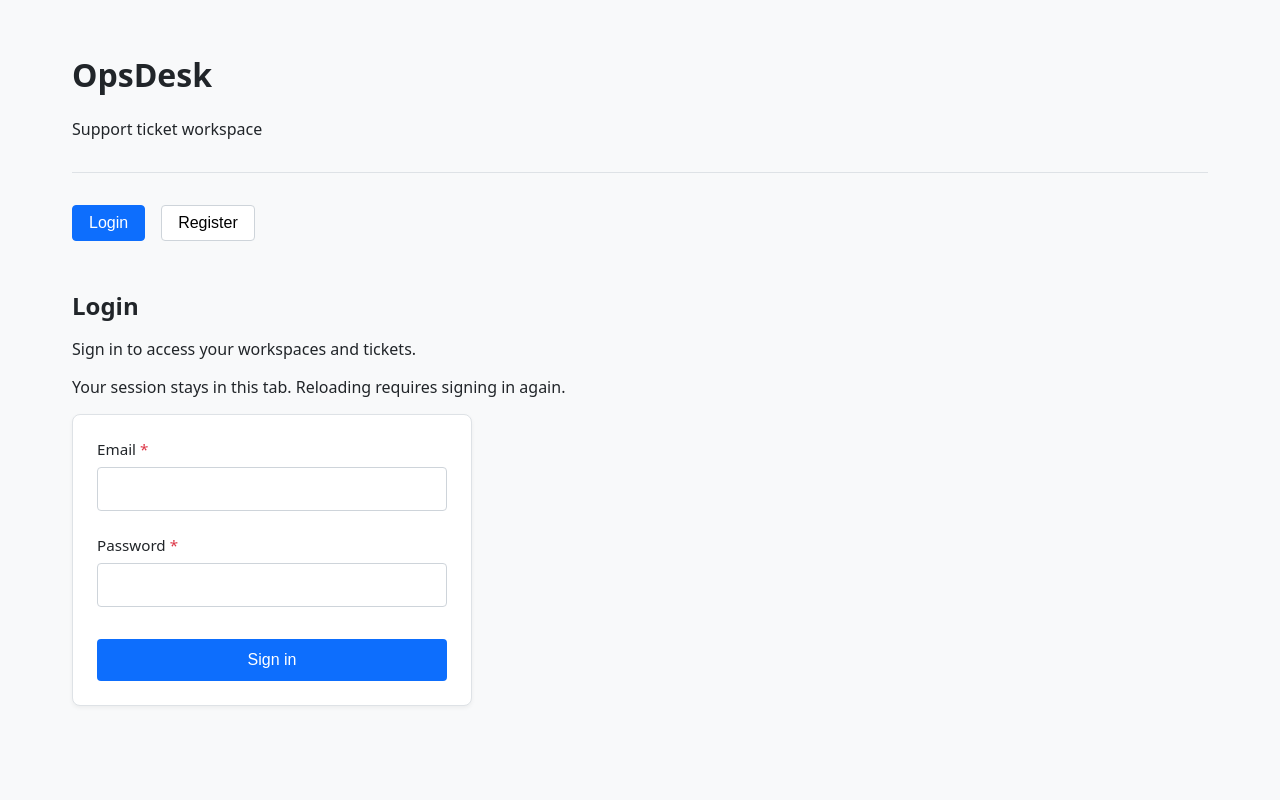
handles successful session check: updates user info and keeps session active
Step 1. Click the button "Login" → click(109, 223), box [72,205,145,241]
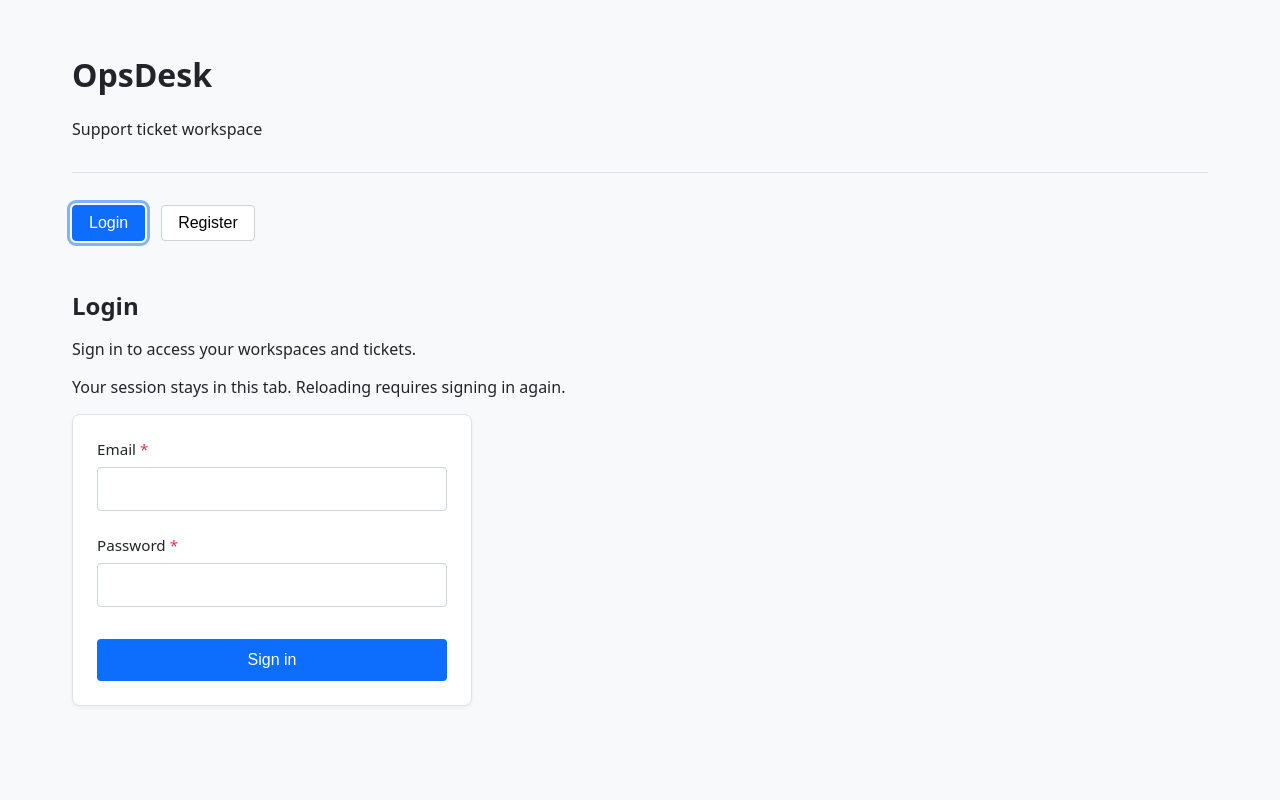
Step 2. Type "operator@example.com" into the field labelled "Email *" → (272, 489), box [97,467,447,511]
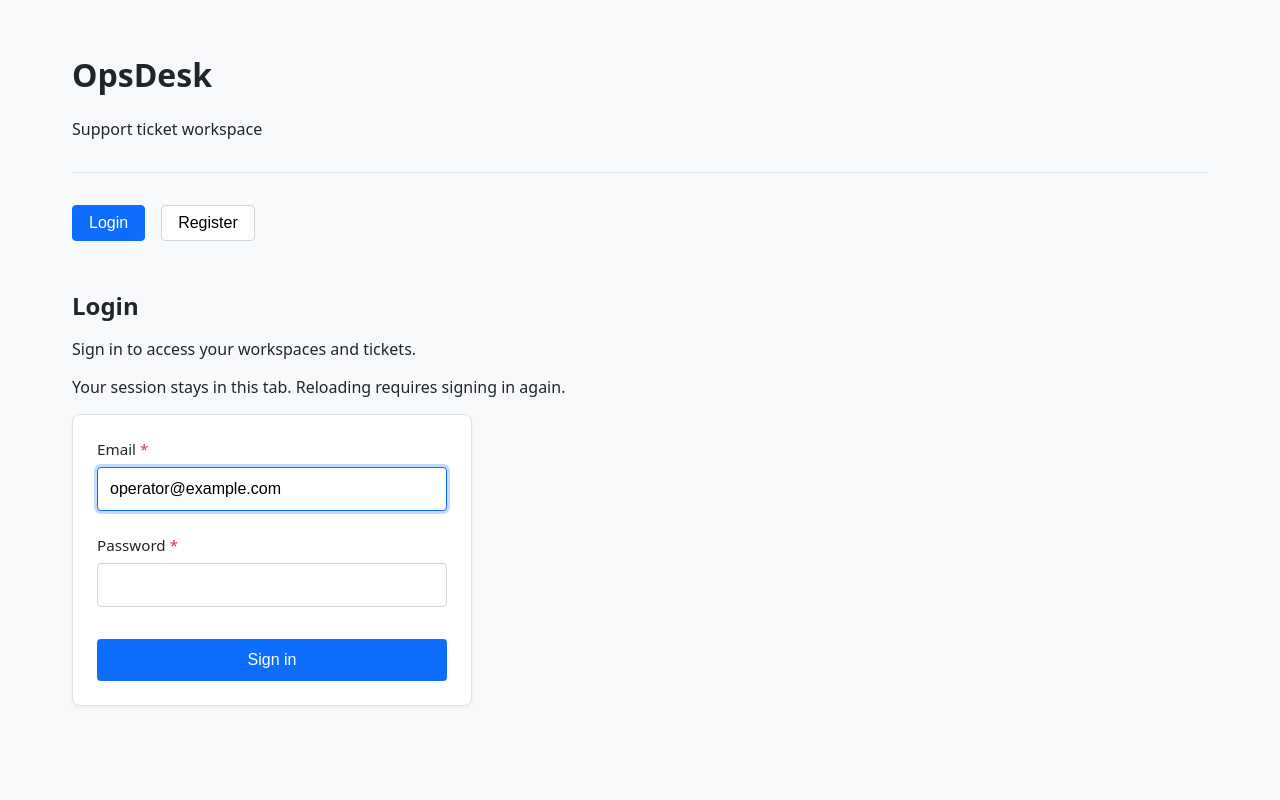
Step 3. Type "validPassword123" into the password field labelled "Password *" → (272, 585), box [97,563,447,607]
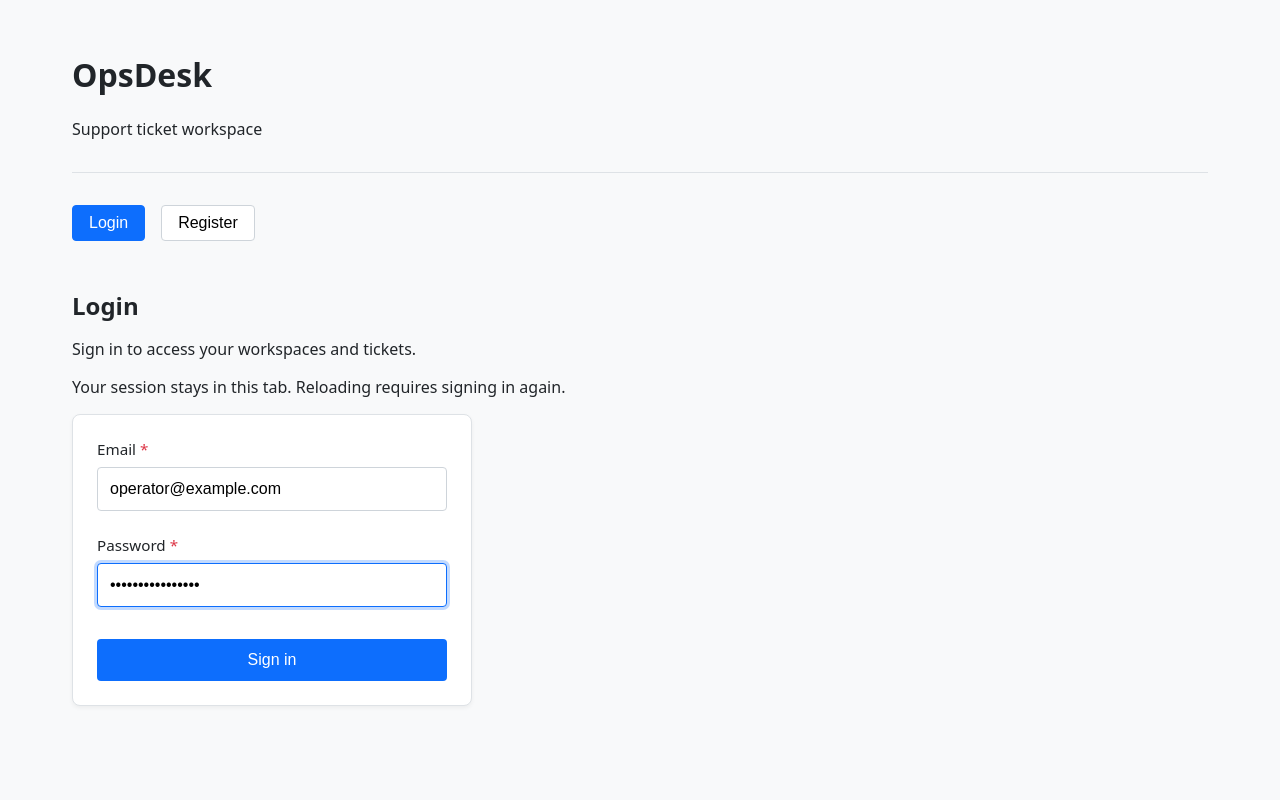
Step 4. Click the button "Sign in" → click(272, 660), box [97,639,447,681]
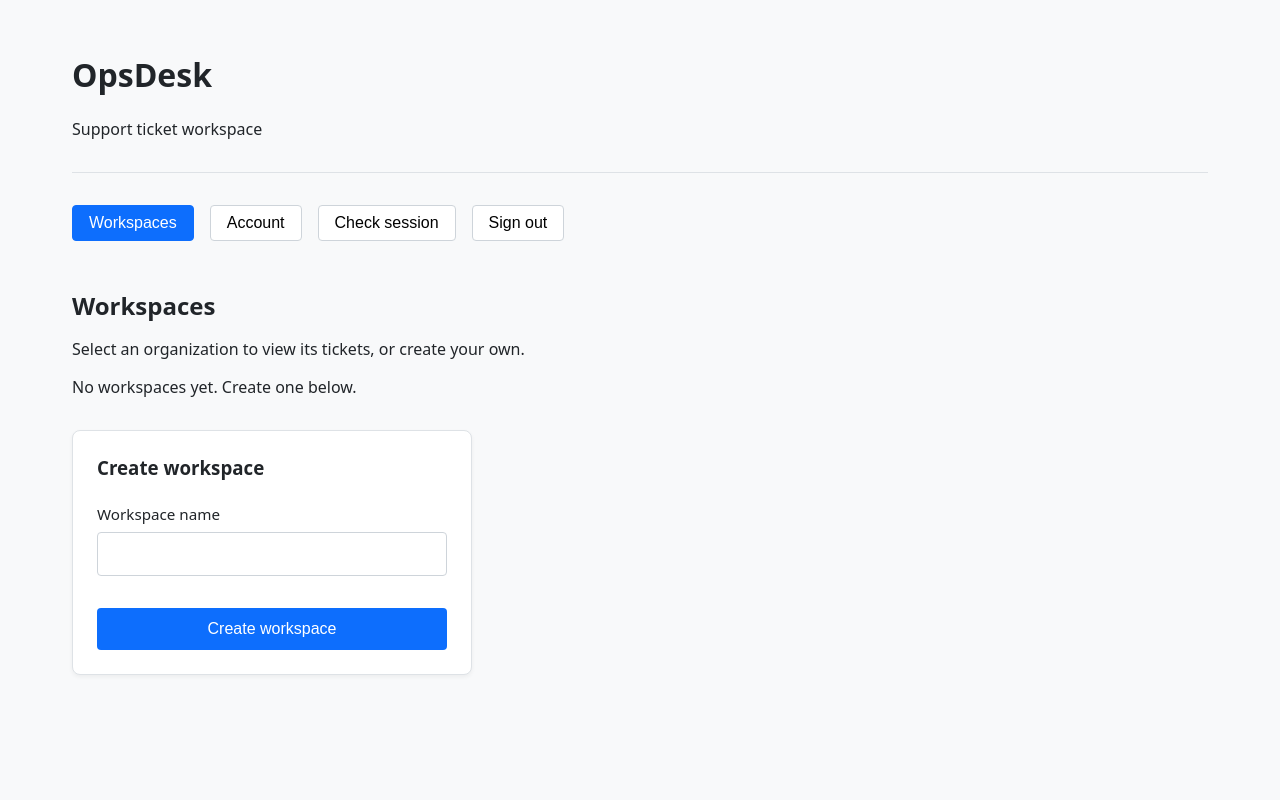
expect the heading "Workspaces" is shown: met, box [72,289,215,322]
Step 5. Click the button "Account" → click(256, 223), box [210,205,302,241]
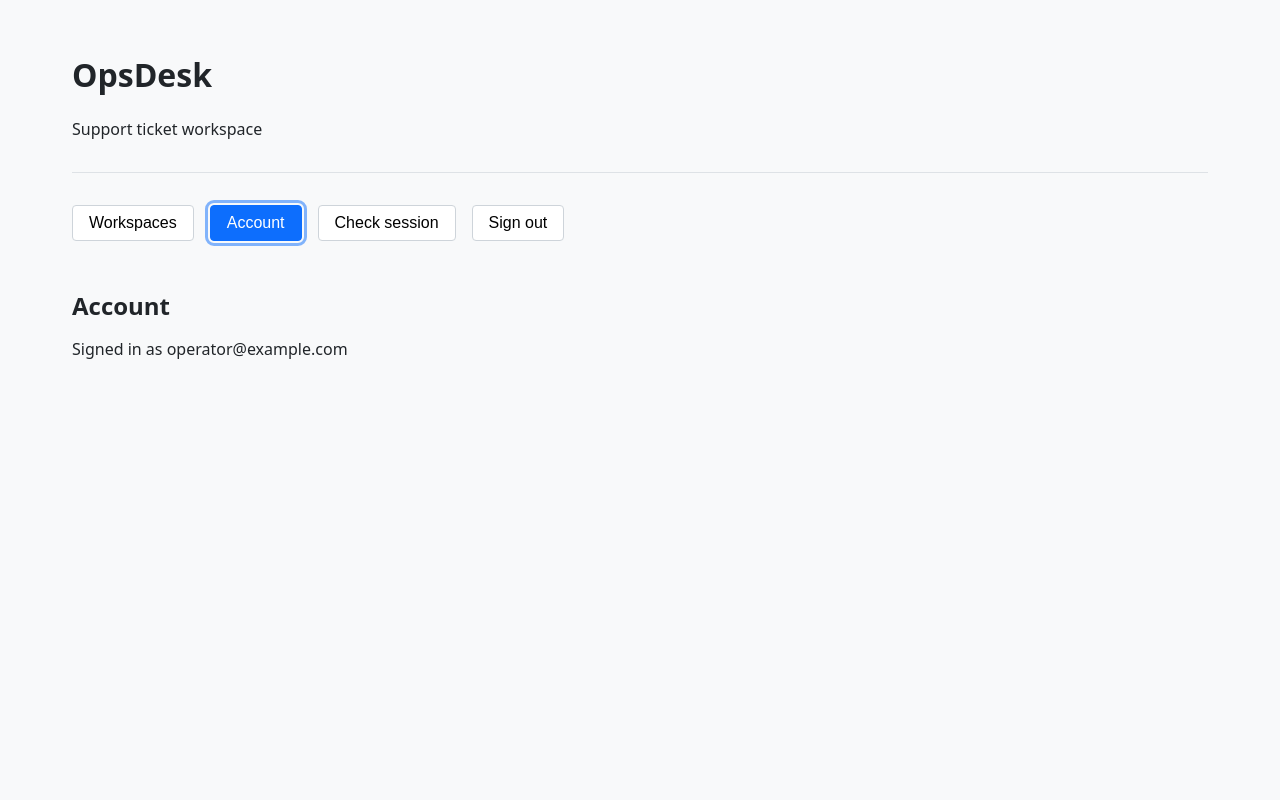
expect the button "Check session" is shown: met
expect the message "Signed in as operator@example.com" is shown: met, box [72,338,348,360]
Step 6. Click the button "Check session" → click(386, 223), box [318,205,456,241]
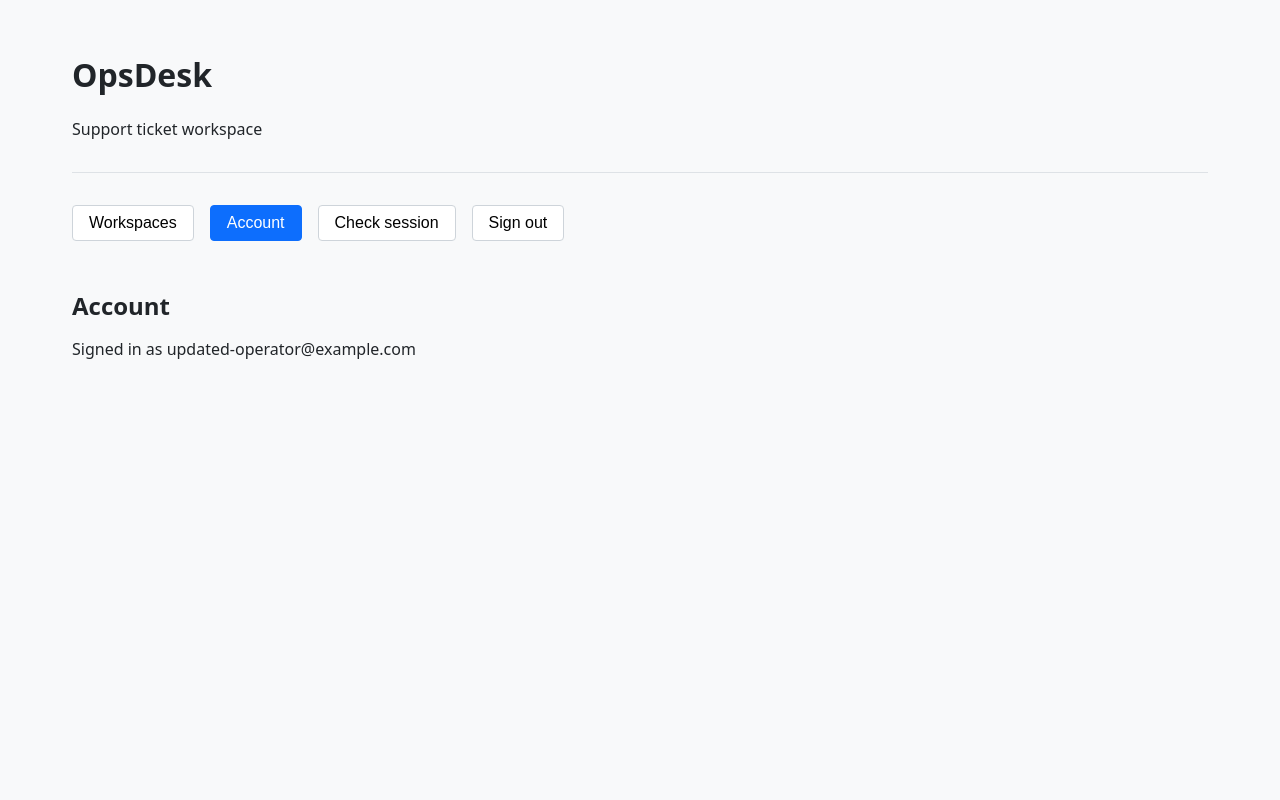
expect the button "Sign out" is shown: met, box [472,205,564,241]
expect the message reads "Signed in as updated-operator@example.com": met, box [72,338,416,360]
